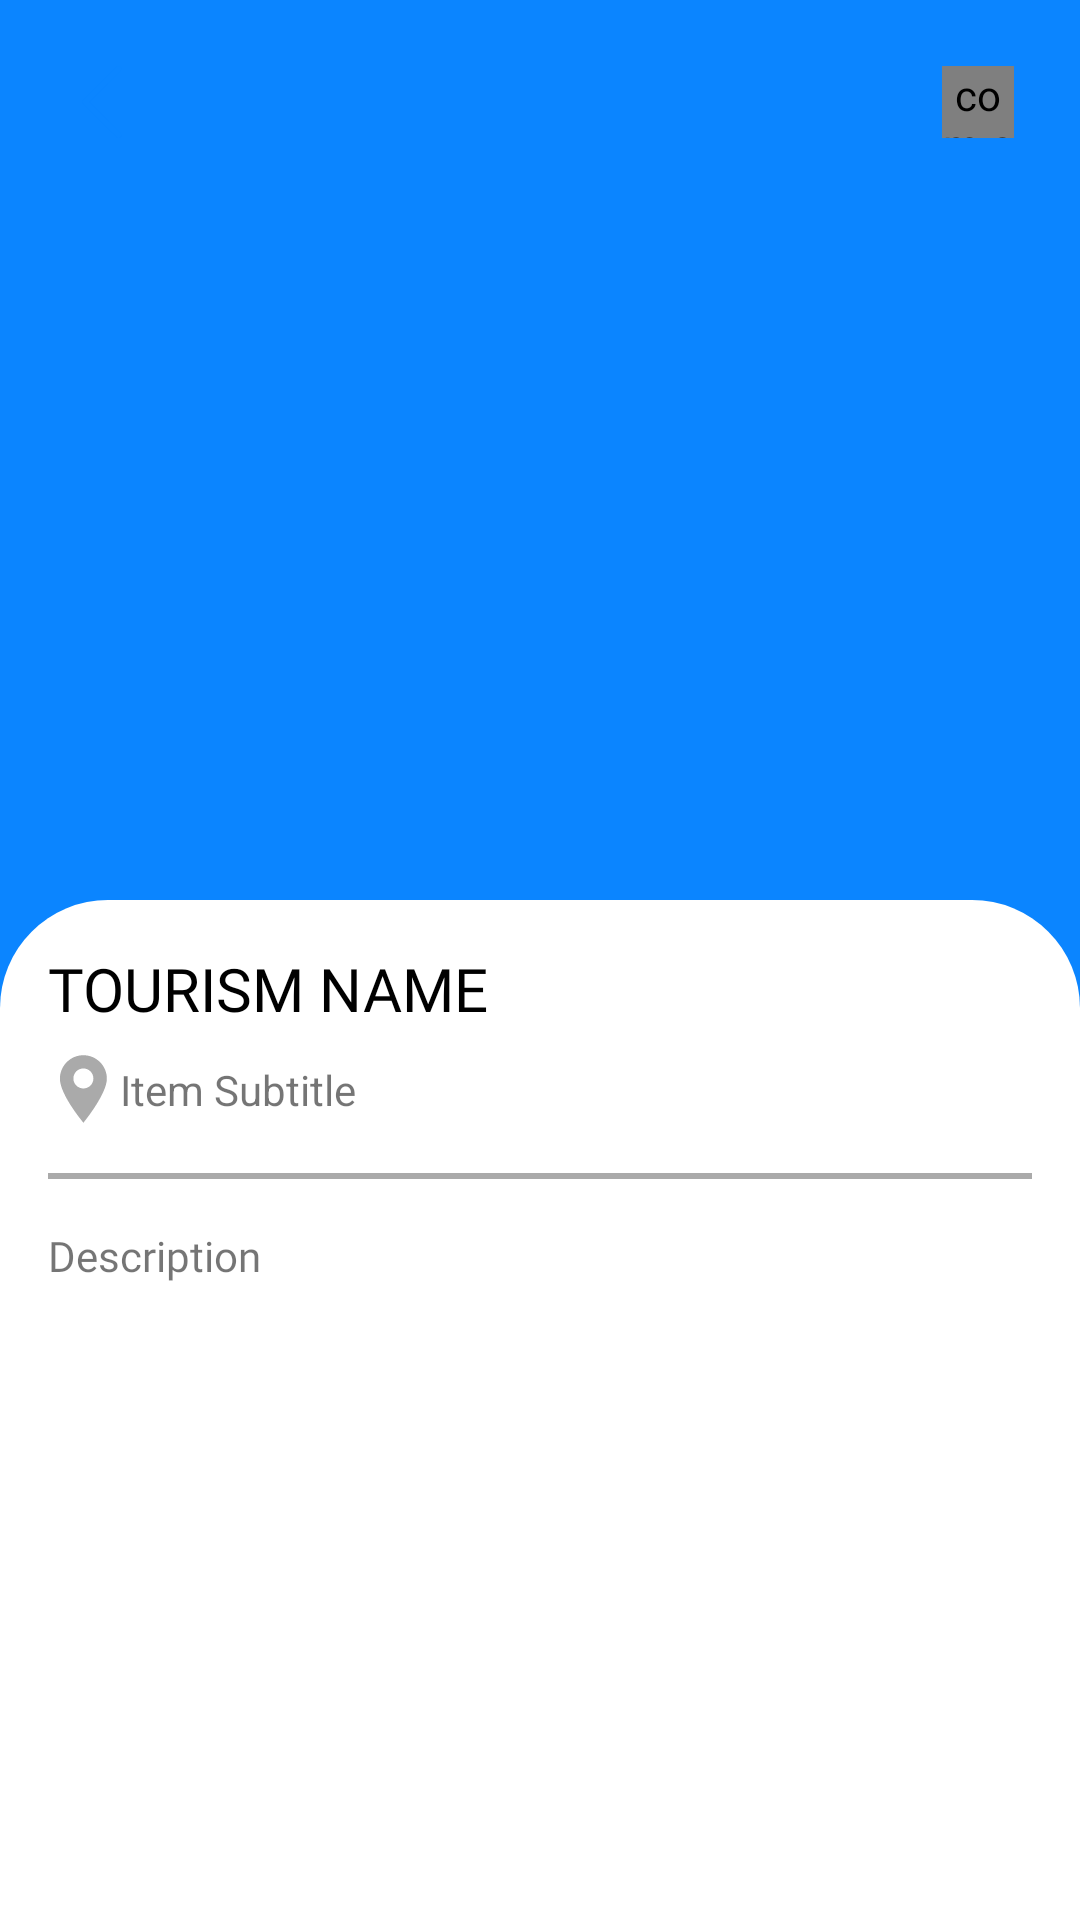

Where icons sit on this 1080w x 1920h app screen, as (x1, y1, x2, y2):
location: (60, 1055, 107, 1123)
